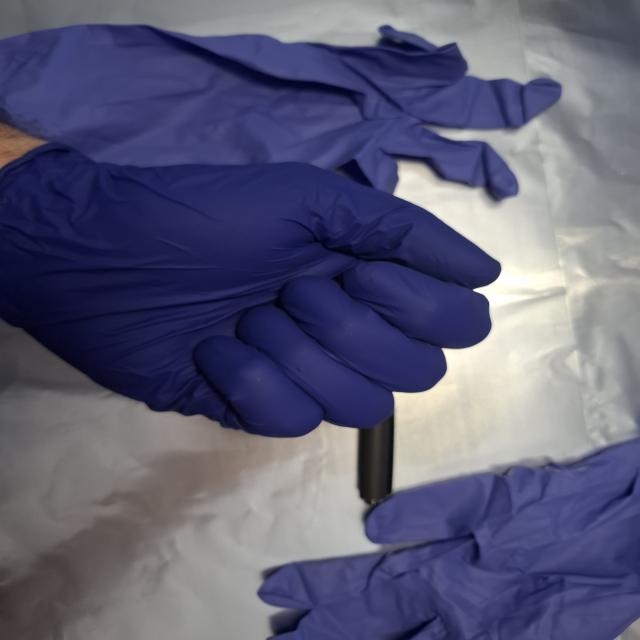glove_on: (0, 140, 505, 444)
